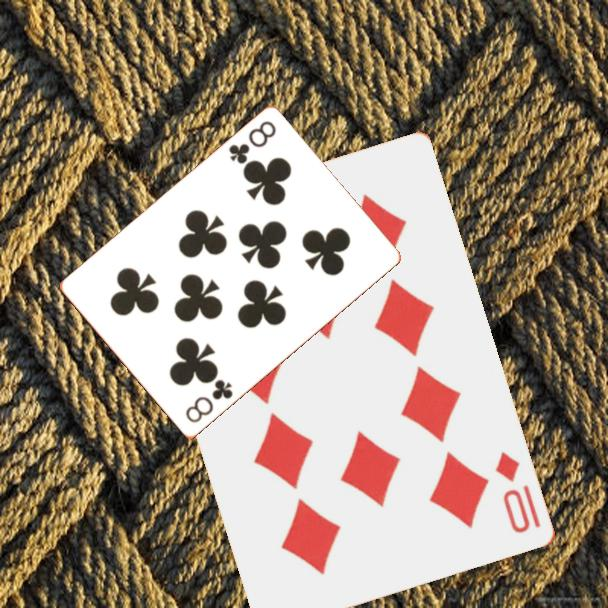c08: (225, 117, 279, 168), (182, 376, 236, 426)
d10: (492, 448, 544, 537)
